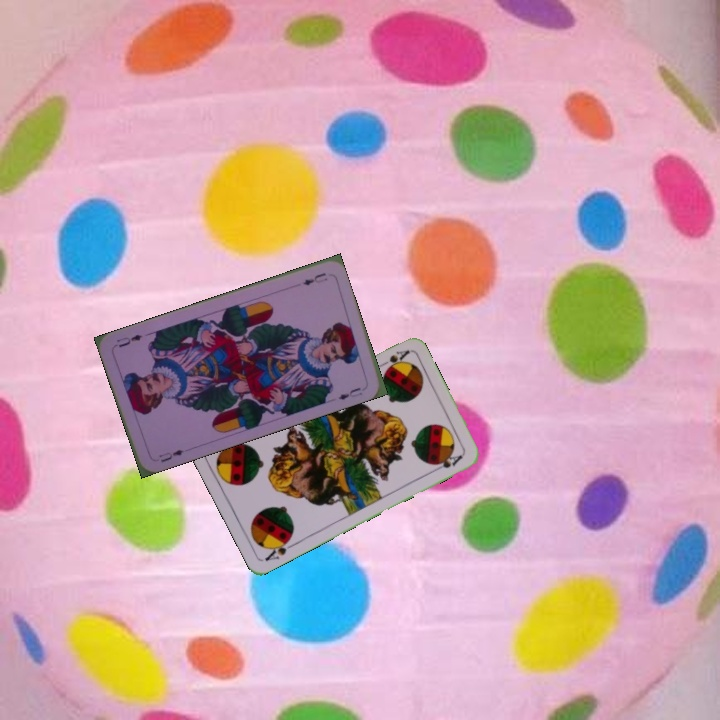EU: (155, 445, 186, 465), (299, 268, 329, 288)
SA: (260, 533, 299, 564), (373, 346, 412, 371)
